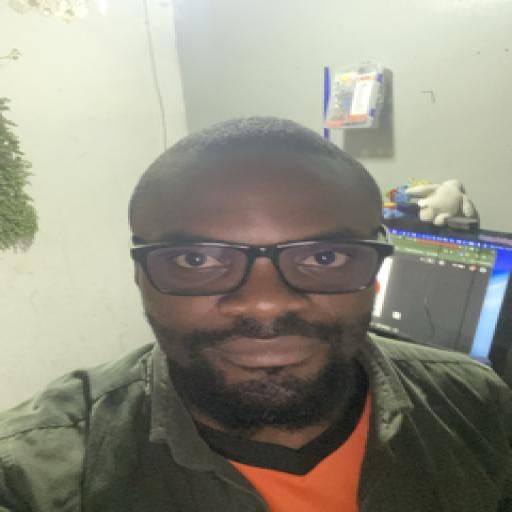JEANLUC: (104, 109, 393, 446)
